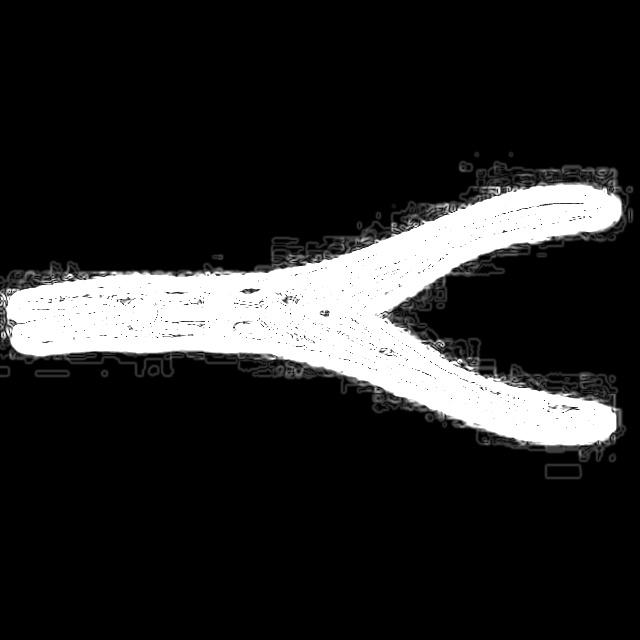gubia: (4, 180, 632, 454)
